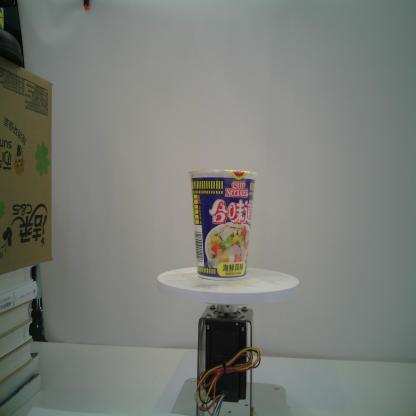Instant Noodles: (185, 166, 260, 282)
